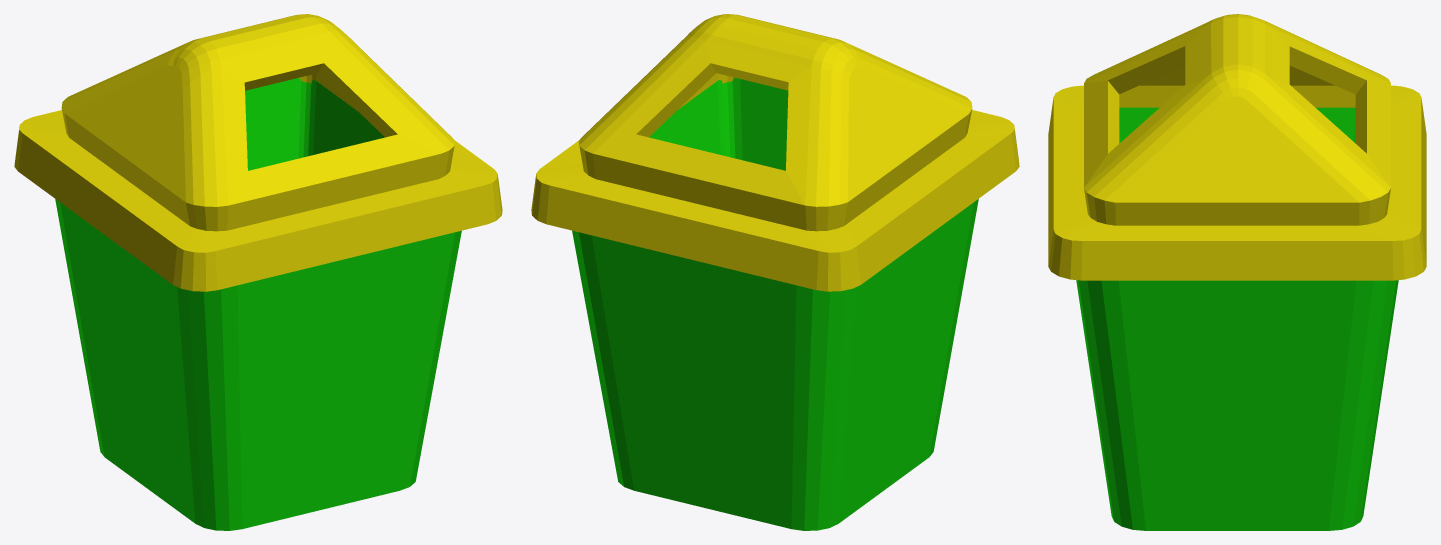
File: tempat sampah .fbx
3 renders of one model, left to right at view 1: azimuth 30°, elevation 25°; view 2: azimuth 150°, elevation 25°; view 3: azimuth 270°, elevation 25°, orthographic.
Parts seen in each view (by area): view 1: tempat sampah; view 2: tempat sampah; view 3: tempat sampah.
Part boxes in pixels (left/top/right/bottom): tempat sampah: left=14, top=14, right=502, bottom=530; tempat sampah: left=531, top=14, right=1019, bottom=530; tempat sampah: left=1048, top=14, right=1426, bottom=530.
Bounding box in the file's own units: 74.09 × 94.35 × 74.08.
